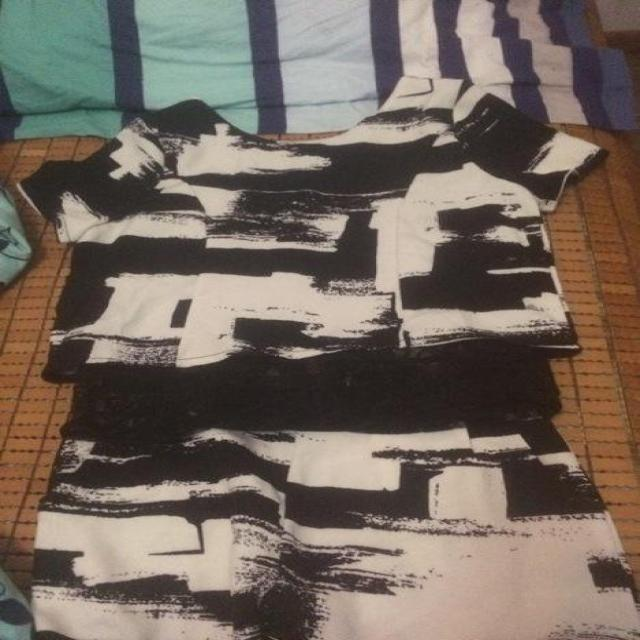short-sleeve-dress: (74, 110, 640, 628)
